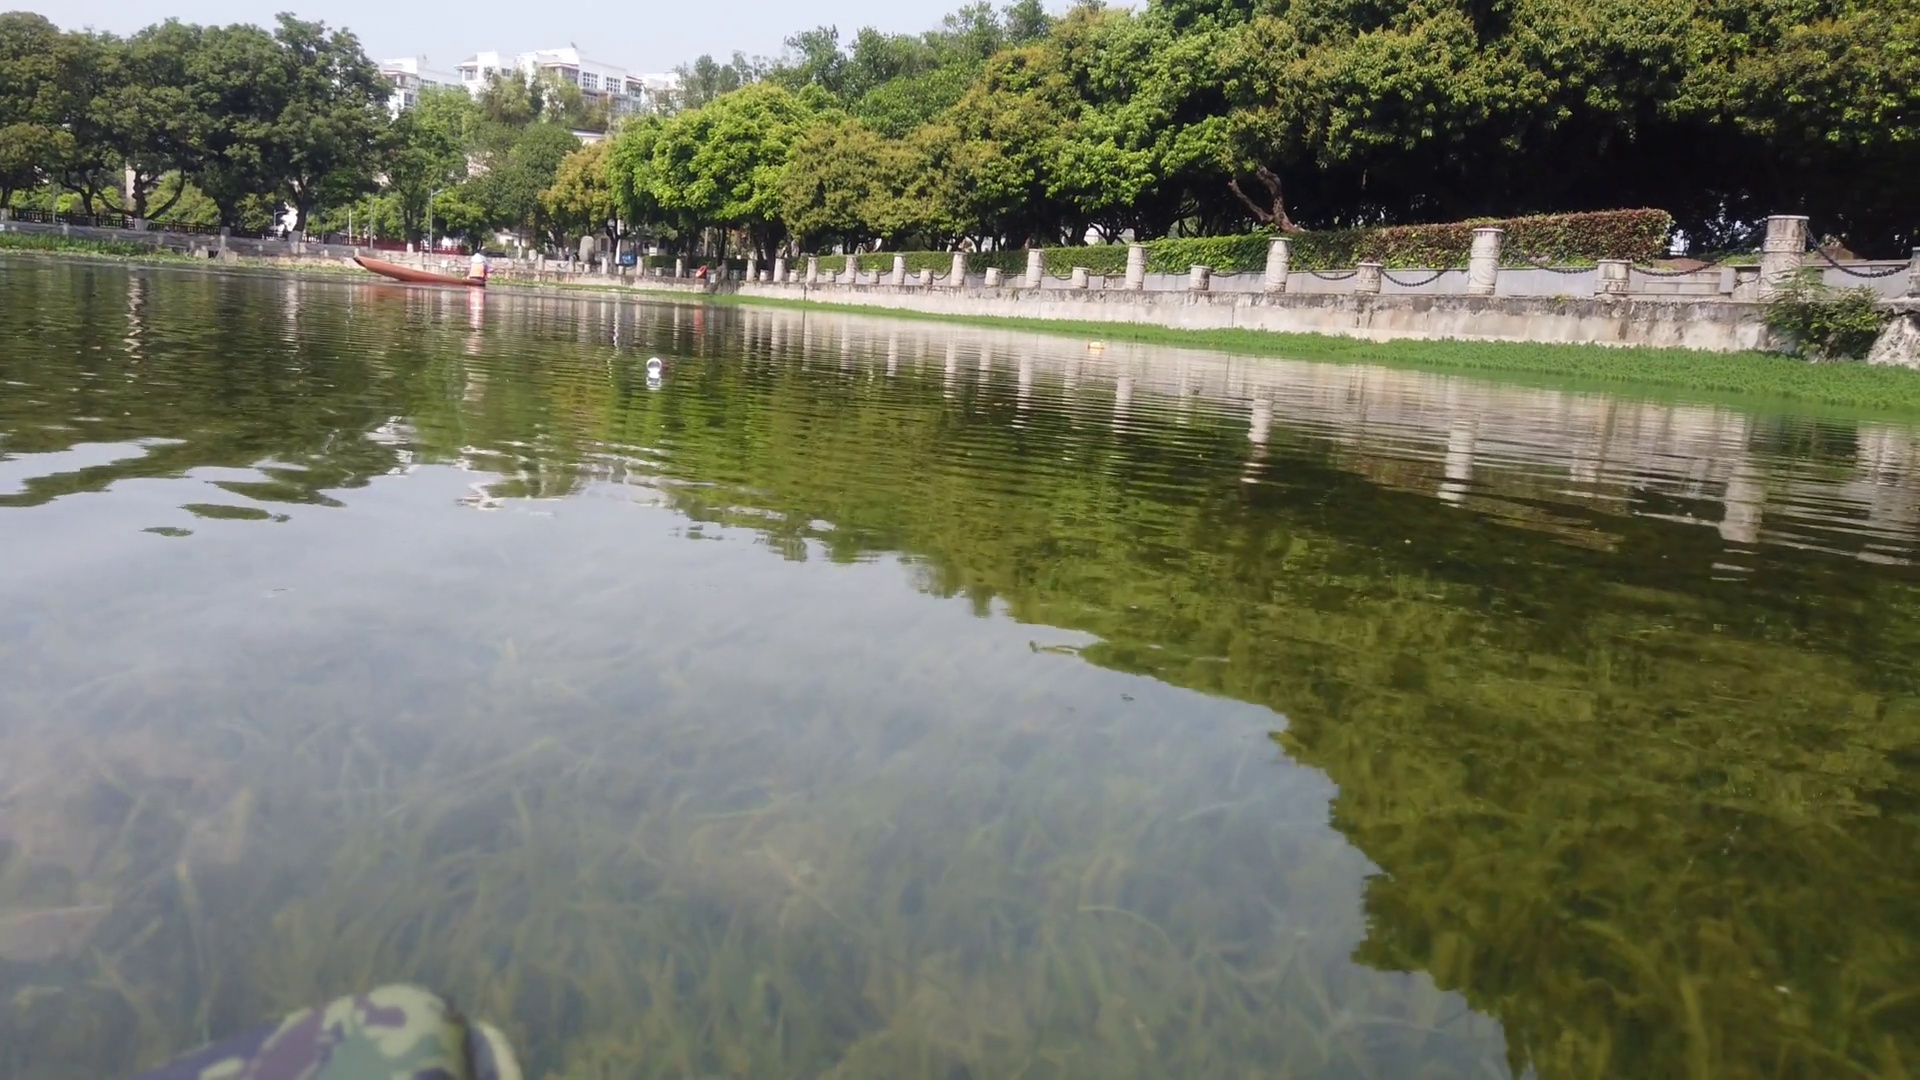bottle: (1083, 335, 1109, 353), (642, 356, 665, 373)
